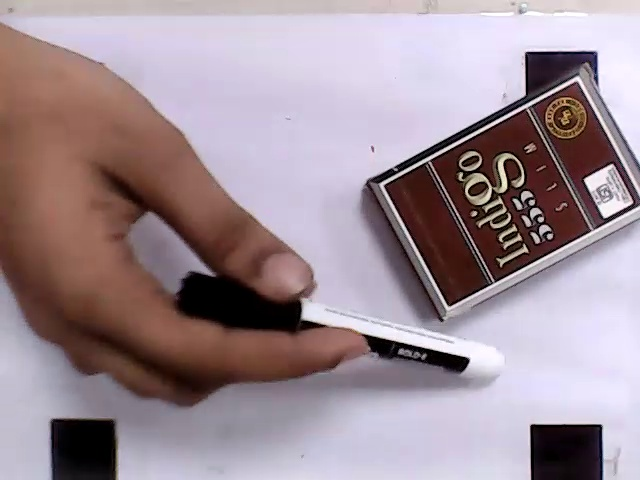BEX: (381, 78, 640, 308)
